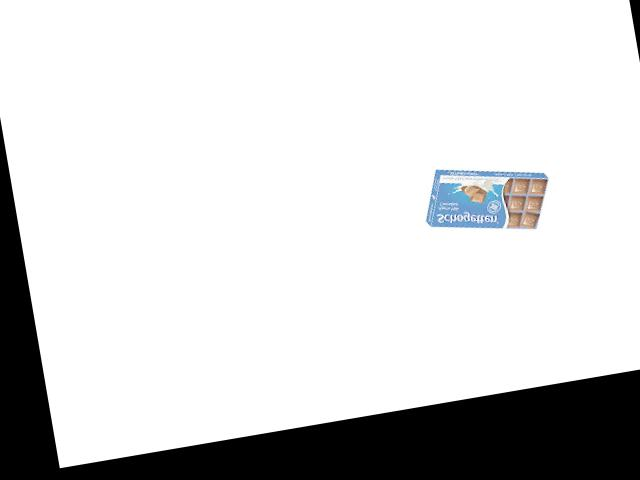chocolate: (417, 161, 557, 247)
